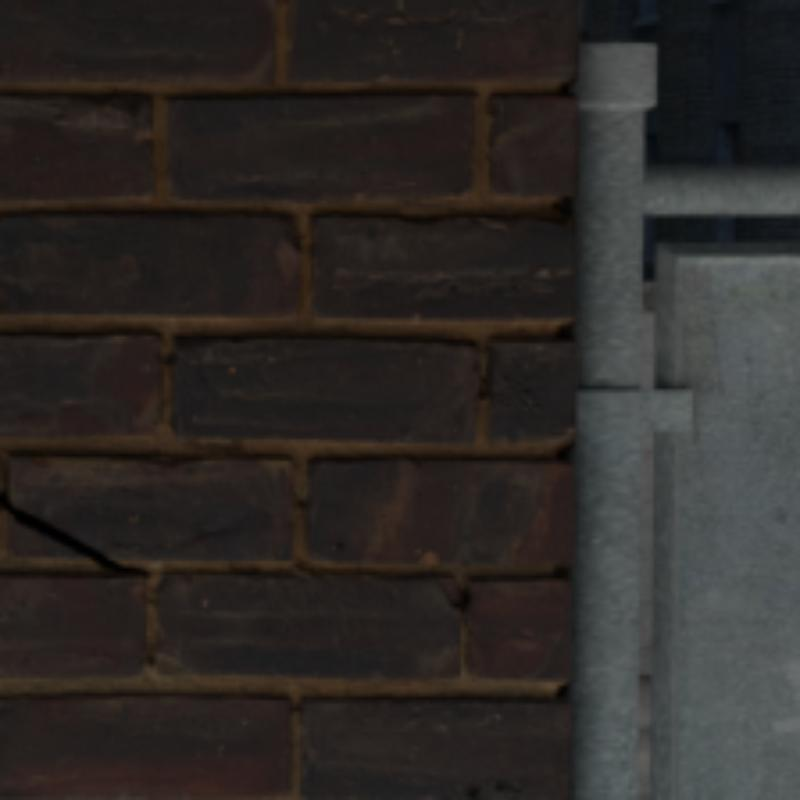pothole: (0, 489, 154, 575)
